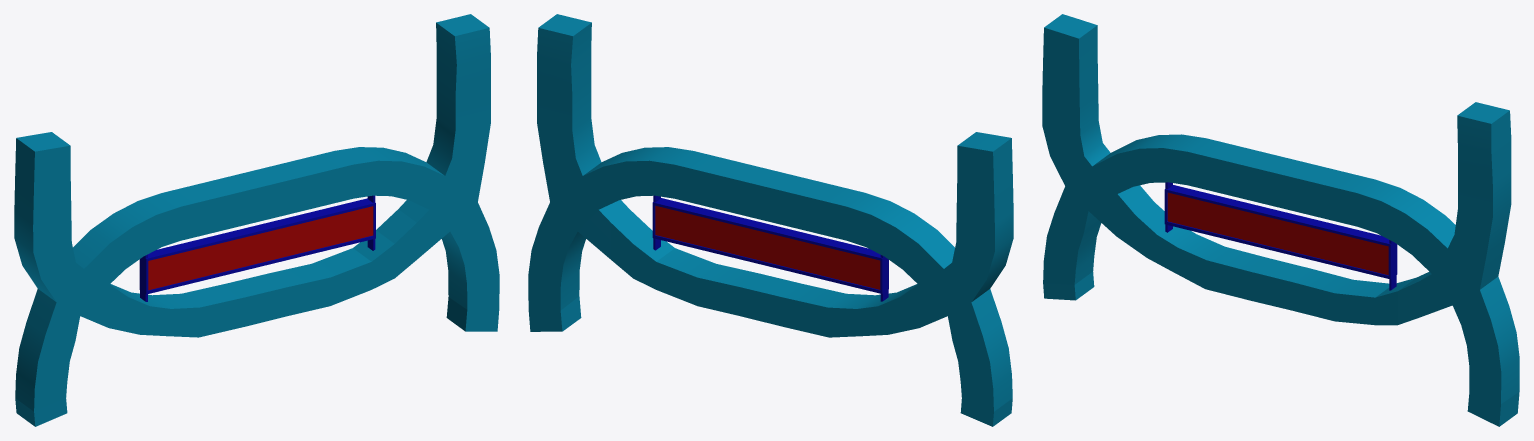
File: City_Sign.fbx
3 renders of one model, left to right at view 1: azimuth 30°, elevation 25°; view 2: azimuth 150°, elevation 25°; view 3: azimuth 330°, elevation 25°, orthographic.
Visible parts, largest first — view 1: polySurface2, pCube12; view 2: polySurface2, pCube12; view 3: polySurface2, pCube12.
Boxes of the visible parts, box(x1,y1,x2,y2) form: polySurface2: box(14, 14, 499, 426); pCube12: box(139, 195, 375, 301); polySurface2: box(528, 14, 1013, 426); pCube12: box(652, 195, 888, 301); polySurface2: box(1042, 14, 1519, 426); pCube12: box(1164, 182, 1397, 290).
Bounding box in the file's own units: 48.7 × 30.52 × 3.65.
